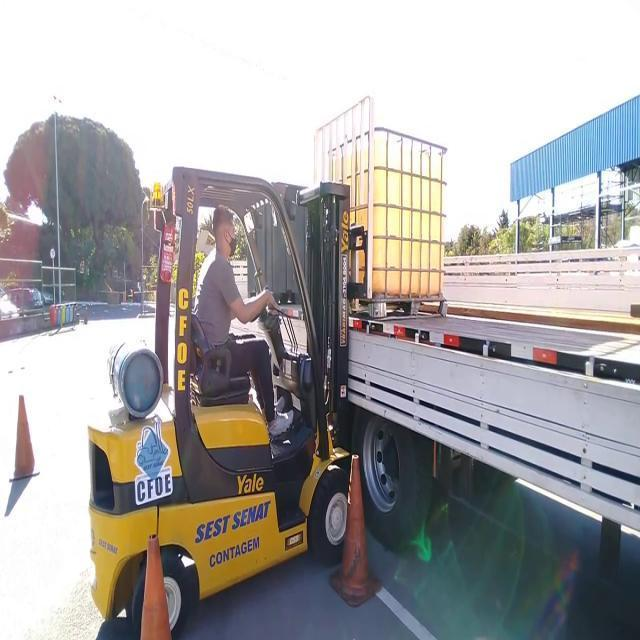forklift: (84, 162, 367, 640)
